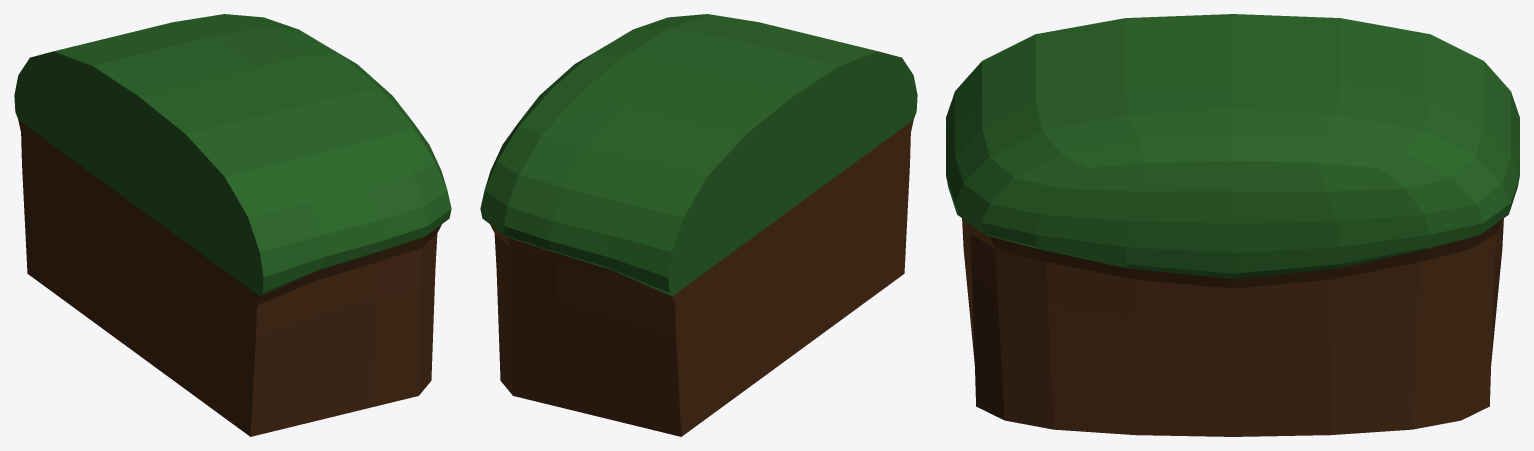
The model's file is PlatformTopRight.obj.
3 renders of one model, left to right at view 1: azimuth 30°, elevation 25°; view 2: azimuth 150°, elevation 25°; view 3: azimuth 270°, elevation 25°, orthographic. The views are drawn at different scales.
Visible parts, largest first — view 1: Platform_TopRight_Cube.051; view 2: Platform_TopRight_Cube.051; view 3: Platform_TopRight_Cube.051.
Part boxes in pixels (x1,y1,x2,y2): Platform_TopRight_Cube.051: [14, 14, 451, 436]; Platform_TopRight_Cube.051: [480, 14, 917, 436]; Platform_TopRight_Cube.051: [946, 14, 1519, 436].
Bounding box in the file's own units: 1.9 × 2 × 3.49.
